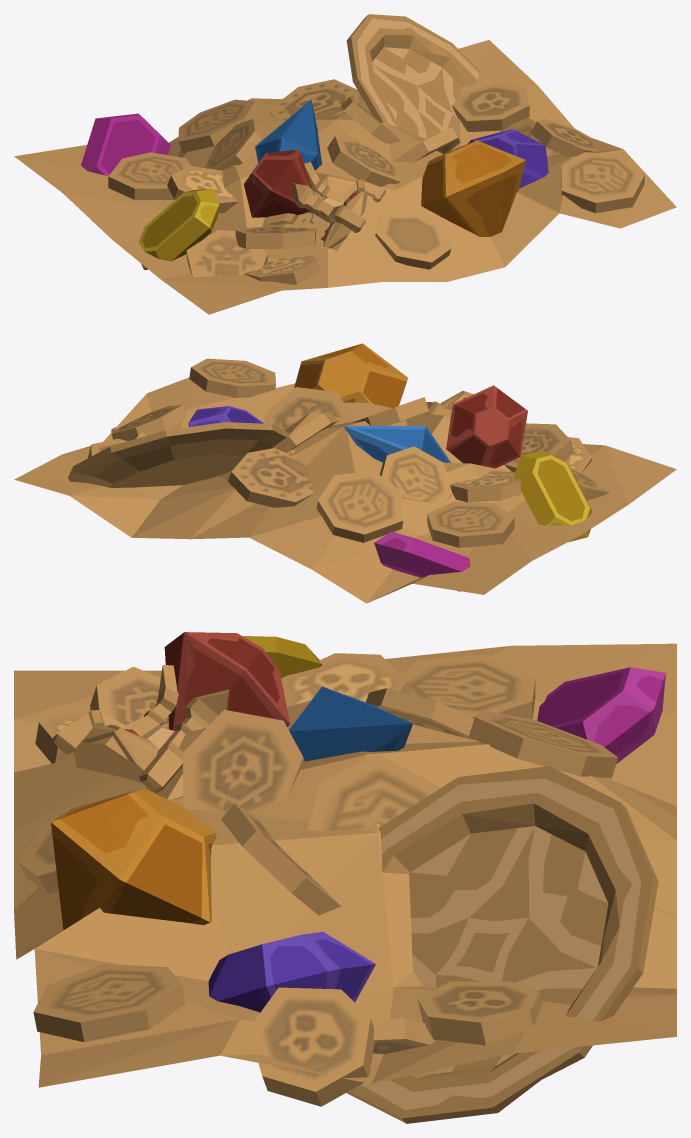
Rendered from SM_Prop_Treasure_Chest_03_Insert_01.fbx.
3 views of the same model, one above another, from view 1: azimuth 30°, elevation 25°; view 2: azimuth 150°, elevation 25°; view 3: azimuth 270°, elevation 25° (orthographic). The views are drawn at different scales.
Parts seen in each view (by area): view 1: SM_Prop_Treasure_Chest_03_Insert_01; view 2: SM_Prop_Treasure_Chest_03_Insert_01; view 3: SM_Prop_Treasure_Chest_03_Insert_01.
Boxes of the visible parts, box(x1,y1,x2,y2) form: SM_Prop_Treasure_Chest_03_Insert_01: box(14, 14, 676, 314); SM_Prop_Treasure_Chest_03_Insert_01: box(14, 343, 676, 603); SM_Prop_Treasure_Chest_03_Insert_01: box(14, 632, 676, 1123).
Bounding box in the file's own units: 71.11 × 20.51 × 49.75.
